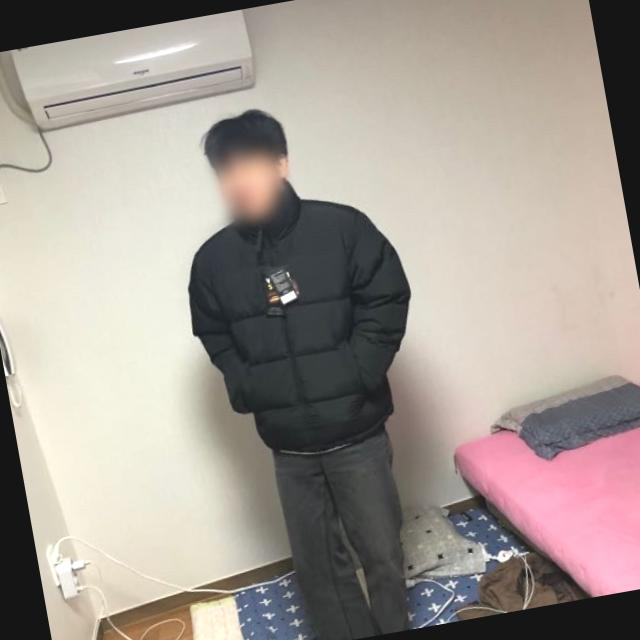denimpants: (268, 429, 423, 640)
padding: (168, 164, 434, 465)
